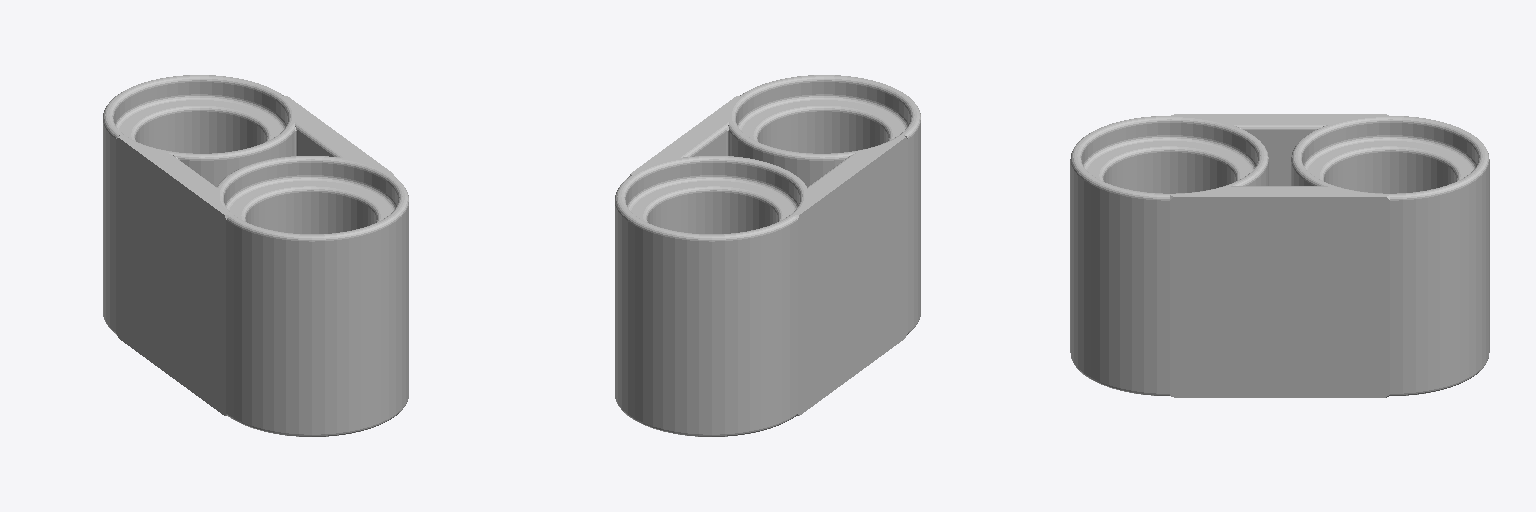
The model's file is b2.ldr.obj.
3 renders of one model, left to right at view 1: azimuth 30°, elevation 25°; view 2: azimuth 150°, elevation 25°; view 3: azimuth 270°, elevation 25°, orthographic.
Parts seen in each view (by area): view 1: 00001_43857.dat_Mesh_43857.dat_15; view 2: 00001_43857.dat_Mesh_43857.dat_15; view 3: 00001_43857.dat_Mesh_43857.dat_15.
Part boxes in pixels (bbox=[...]): 00001_43857.dat_Mesh_43857.dat_15: bbox=[103, 75, 408, 436]; 00001_43857.dat_Mesh_43857.dat_15: bbox=[615, 75, 920, 436]; 00001_43857.dat_Mesh_43857.dat_15: bbox=[1070, 114, 1489, 397].
Bounding box in the file's own units: 0.175 × 0.1983 × 0.375.